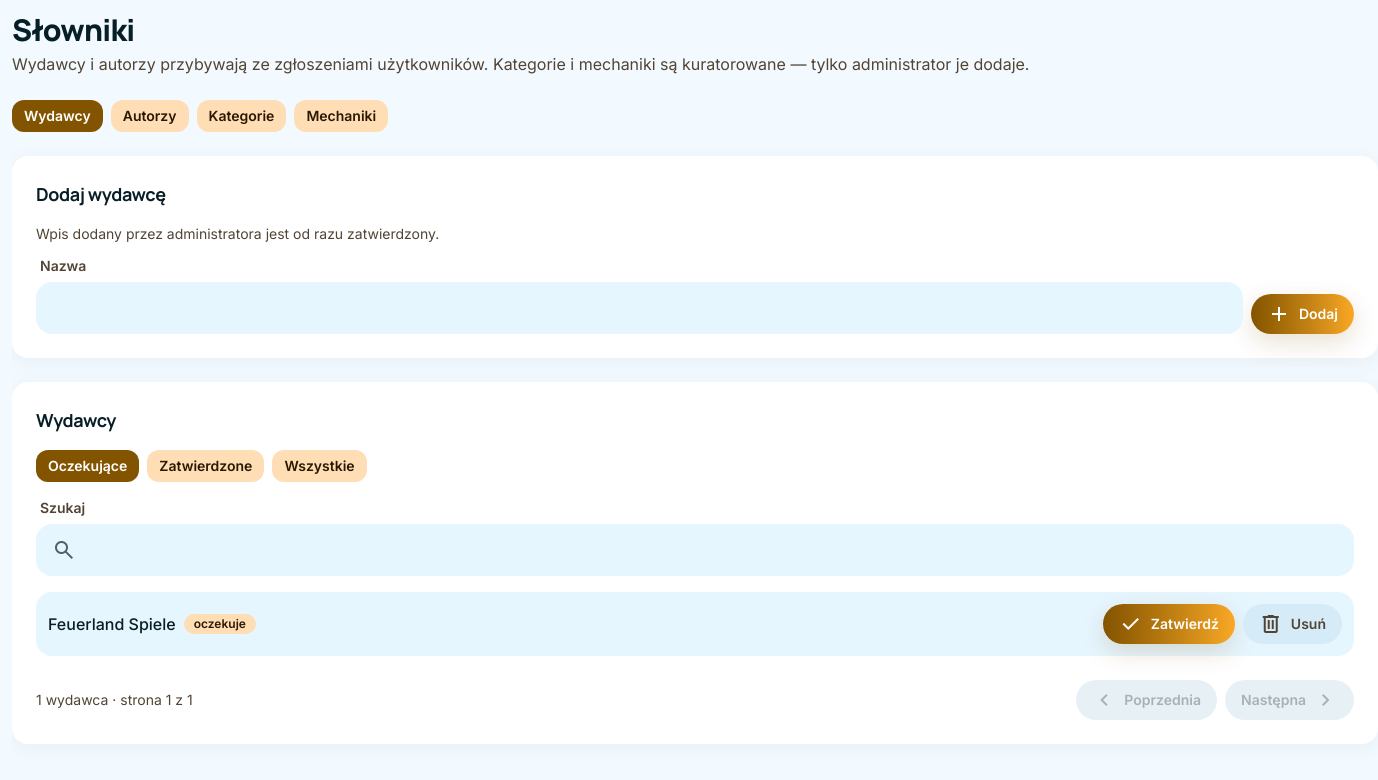
Test case: AdminTaxonomyPage — kategorie (słownik kuratorowany) › istniejąca nazwa daje czytelny komunikat
Step 1. Click the button "Kategorie" → point(241, 116), box [196,100,286,132]
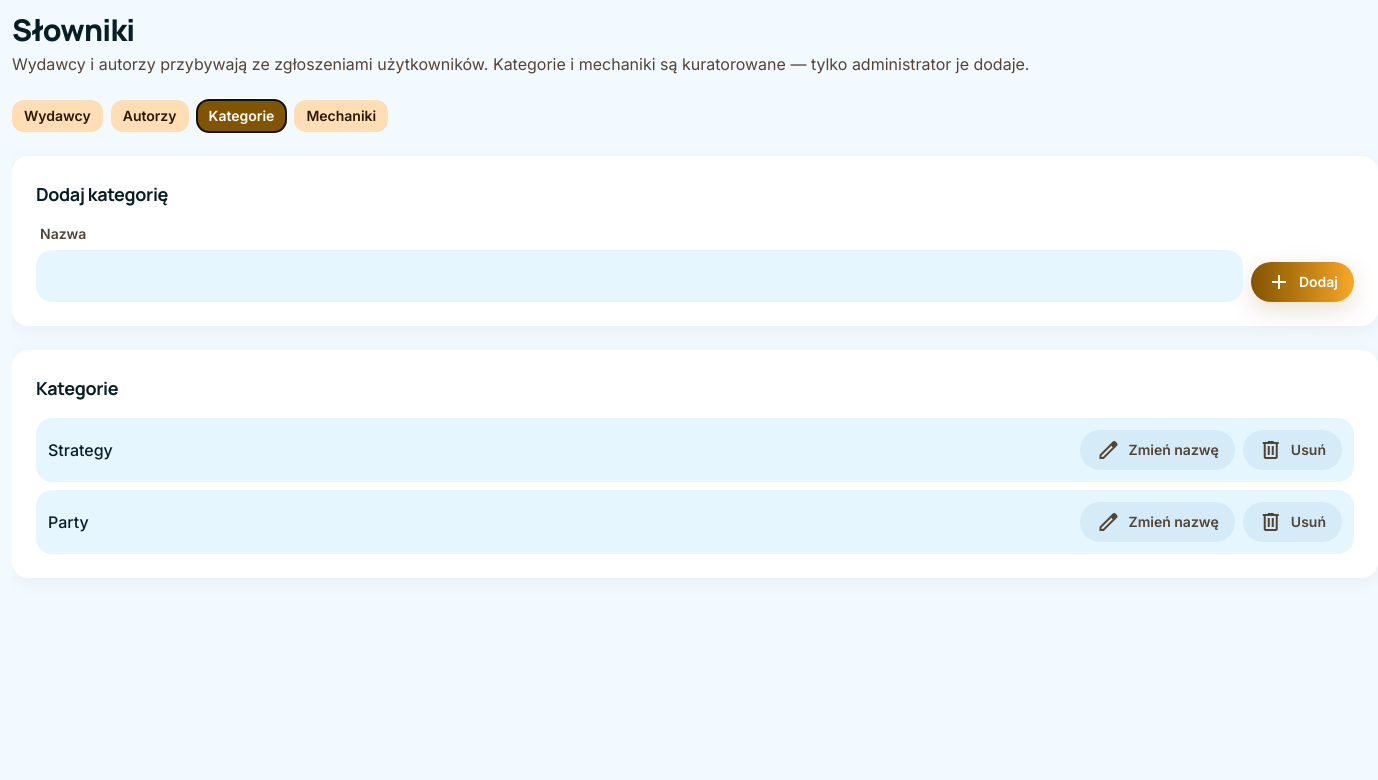
Check: the text "Strategy" is shown, box [48,438,113,462]
Step 2. Type "Strategy" into the field labelled "Nazwa" → point(639, 276), box [36,250,1243,302]
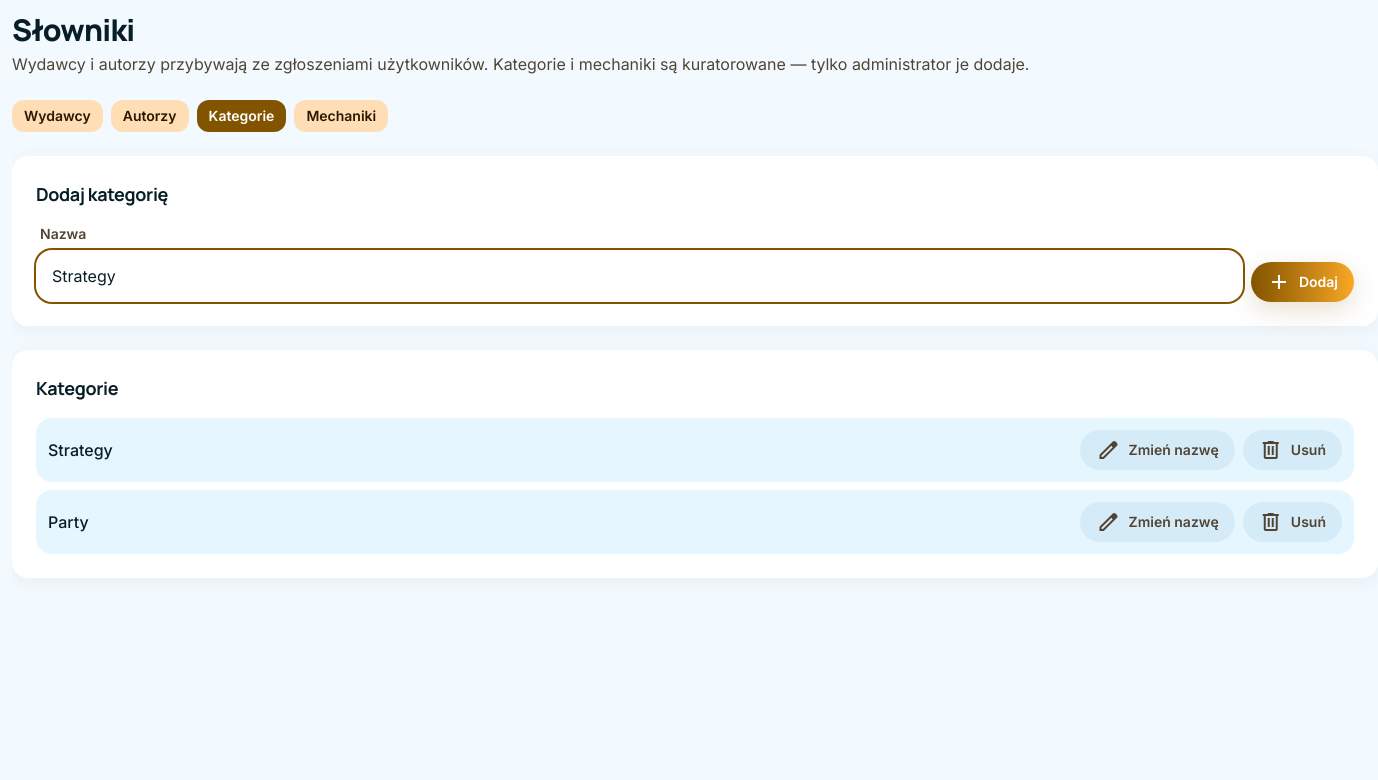
Step 3. Click the button "Dodaj" → point(1302, 282), box [1251,262,1354,302]
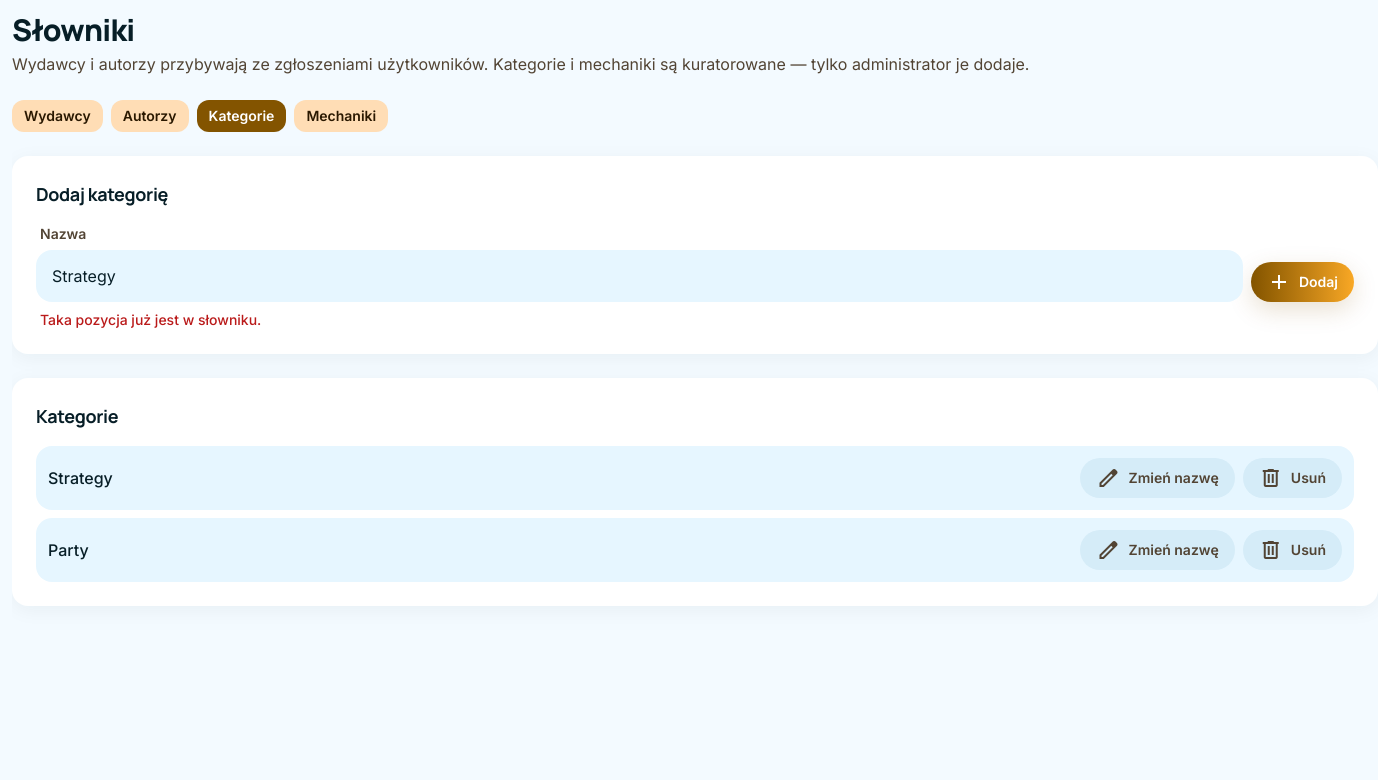
Check: the text "Taka pozycja już jest w słowniku." is shown, box [40,311,261,328]
